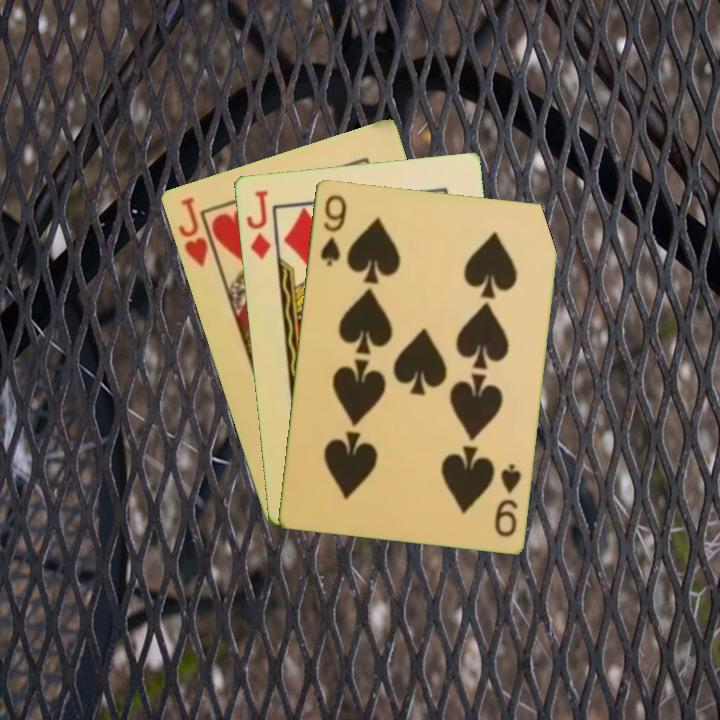9s: (490, 459, 524, 539), (316, 191, 349, 269)
Jd: (242, 186, 273, 262)
Jh: (174, 193, 211, 270)
